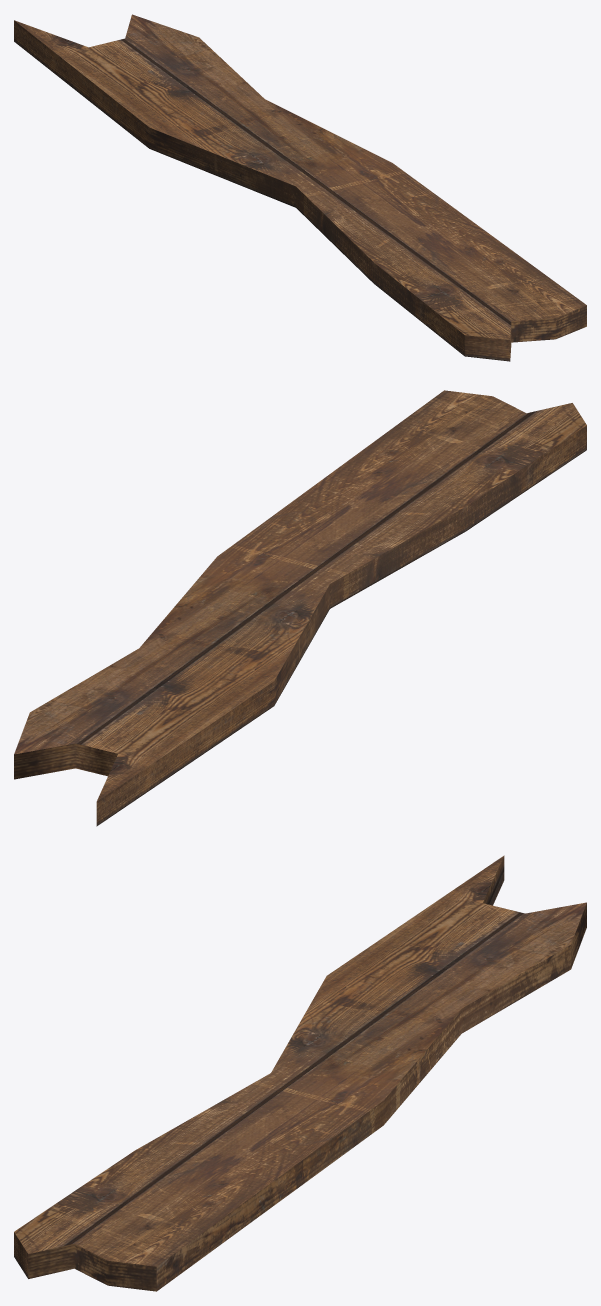
The model's file is plank_03.fbx.
3 views of the same model, one above another, from view 1: azimuth 30°, elevation 25°; view 2: azimuth 150°, elevation 25°; view 3: azimuth 330°, elevation 25° (orthographic). The views are drawn at different scales.
Visible parts, largest first — view 1: plank_03; view 2: plank_03; view 3: plank_03.
Part boxes in pixels (left/top/right/bottom): plank_03: left=14, top=14, right=586, bottom=361; plank_03: left=14, top=390, right=586, bottom=826; plank_03: left=14, top=855, right=586, bottom=1291.
Size of the model in its own units: 7.15 by 1 by 38.32.
1 material, 1 textured.
